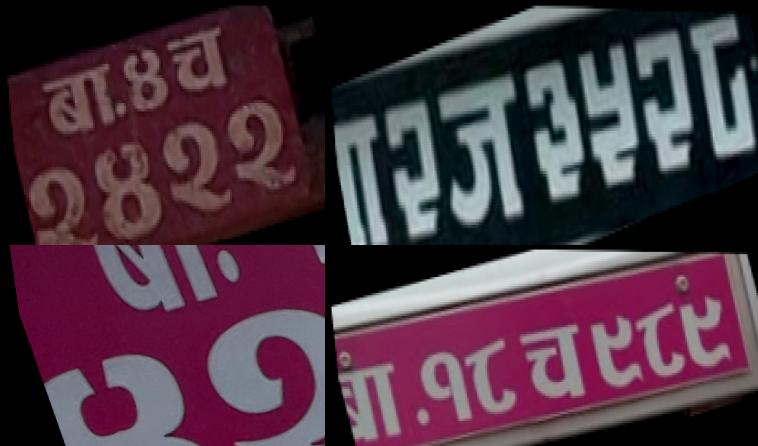1: (405, 334, 478, 440)
2: (177, 288, 325, 446), (624, 8, 702, 178), (150, 104, 239, 234), (216, 84, 304, 214), (375, 85, 446, 245), (12, 147, 96, 245)
3: (515, 46, 591, 215)
4: (23, 332, 232, 446), (80, 129, 170, 245), (110, 28, 180, 124)
5: (571, 30, 648, 196)
8: (684, 8, 758, 167), (454, 325, 524, 426), (628, 294, 693, 389)
9: (578, 298, 648, 395), (672, 281, 739, 376)
ba: (43, 245, 251, 331), (31, 52, 126, 154), (330, 102, 392, 245), (333, 348, 411, 446)
cha: (509, 307, 597, 416), (159, 8, 242, 113)
ja: (425, 56, 534, 245)
